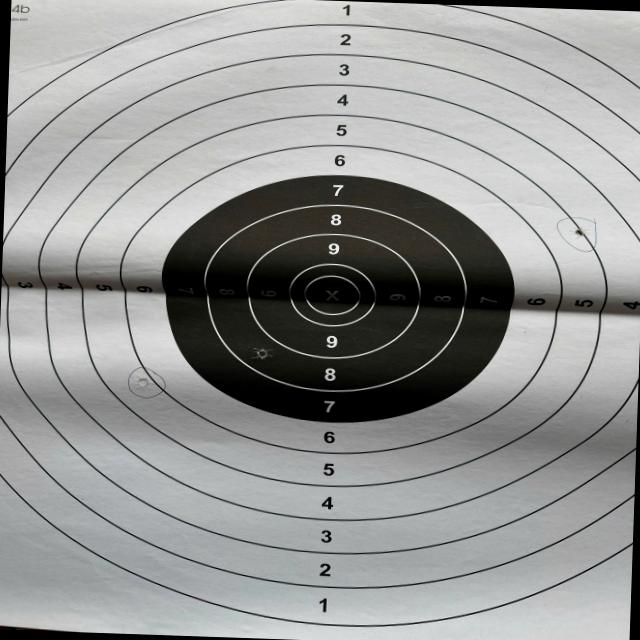bullet: (134, 374, 149, 389), (259, 346, 267, 358), (575, 228, 584, 235)
target: (0, 0, 639, 640)
